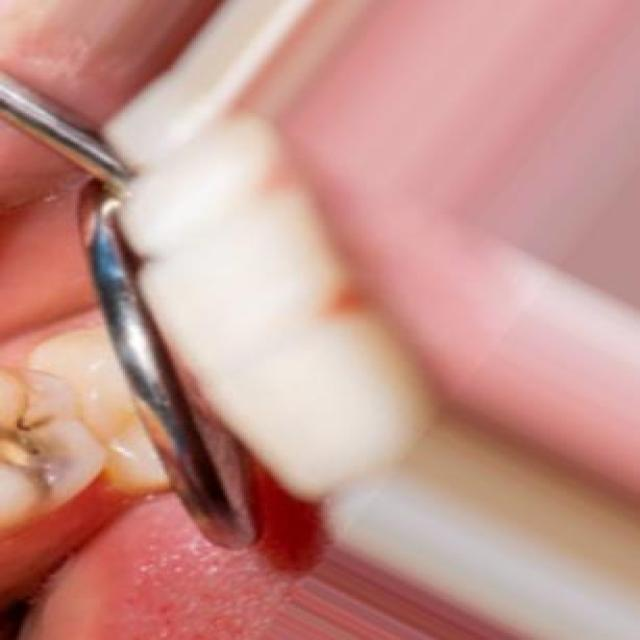caries: (0, 382, 105, 509)
